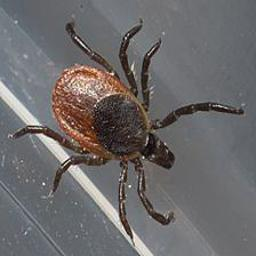Ixodes scapularis: (12, 22, 244, 237)
